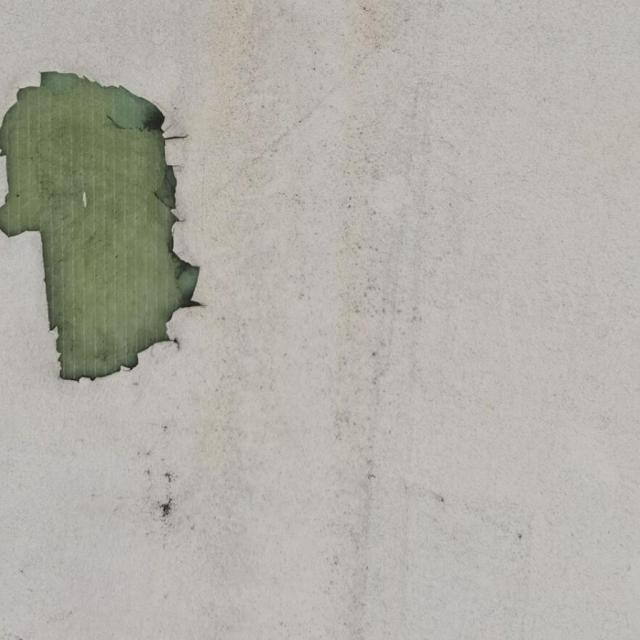surface_peeling: (0, 59, 209, 391)
